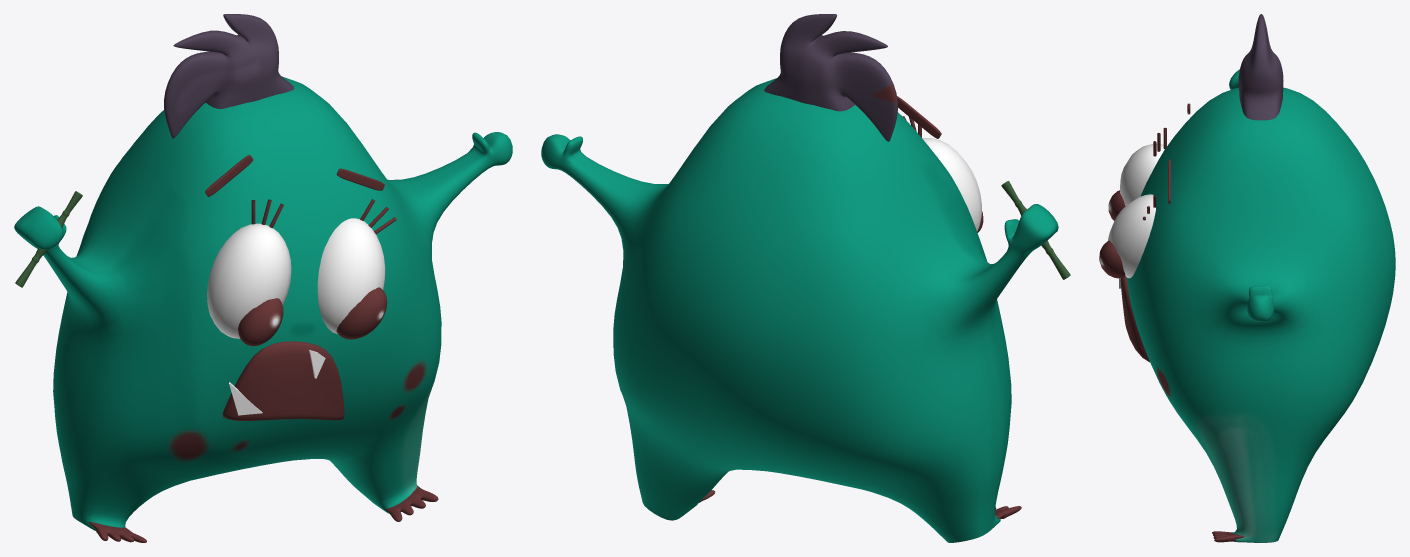
File: monster_three.fbx
3 renders of one model, left to right at view 1: azimuth 30°, elevation 25°; view 2: azimuth 150°, elevation 25°; view 3: azimuth 270°, elevation 25°, orthographic. The views are drawn at different scales.
Parts seen in each view (by area): view 1: Roundcube, Roundcube.005, Cube, Sphere.001, Sphere, Sphere.003, Sphere.002, Roundcube.001, Cube.005; view 2: Roundcube, Roundcube.005, Sphere.001, Cube.005; view 3: Roundcube, Roundcube.005, Sphere, Sphere.001, Cube, Sphere.003.
Part boxes in pixels (box(x1,y1,x2,y2)): Roundcube: box(14, 76, 512, 530); Roundcube.005: box(164, 14, 294, 138); Cube: box(223, 341, 344, 420); Sphere.001: box(207, 223, 291, 338); Sphere: box(317, 218, 385, 333); Sphere.003: box(336, 287, 387, 339); Sphere.002: box(238, 298, 283, 346); Roundcube.001: box(88, 485, 438, 542); Cube.005: box(15, 191, 82, 287); Roundcube: box(541, 78, 1058, 542); Roundcube.005: box(764, 14, 897, 141); Sphere.001: box(922, 138, 981, 231); Cube.005: box(1001, 181, 1070, 279); Roundcube: box(1127, 69, 1395, 542); Roundcube.005: box(1238, 14, 1283, 120); Sphere: box(1108, 194, 1155, 278); Sphere.001: box(1120, 144, 1164, 205); Cube: box(1120, 277, 1149, 362); Sphere.003: box(1099, 240, 1125, 278).
Size of the model in its own units: 170 by 170 by 100.
